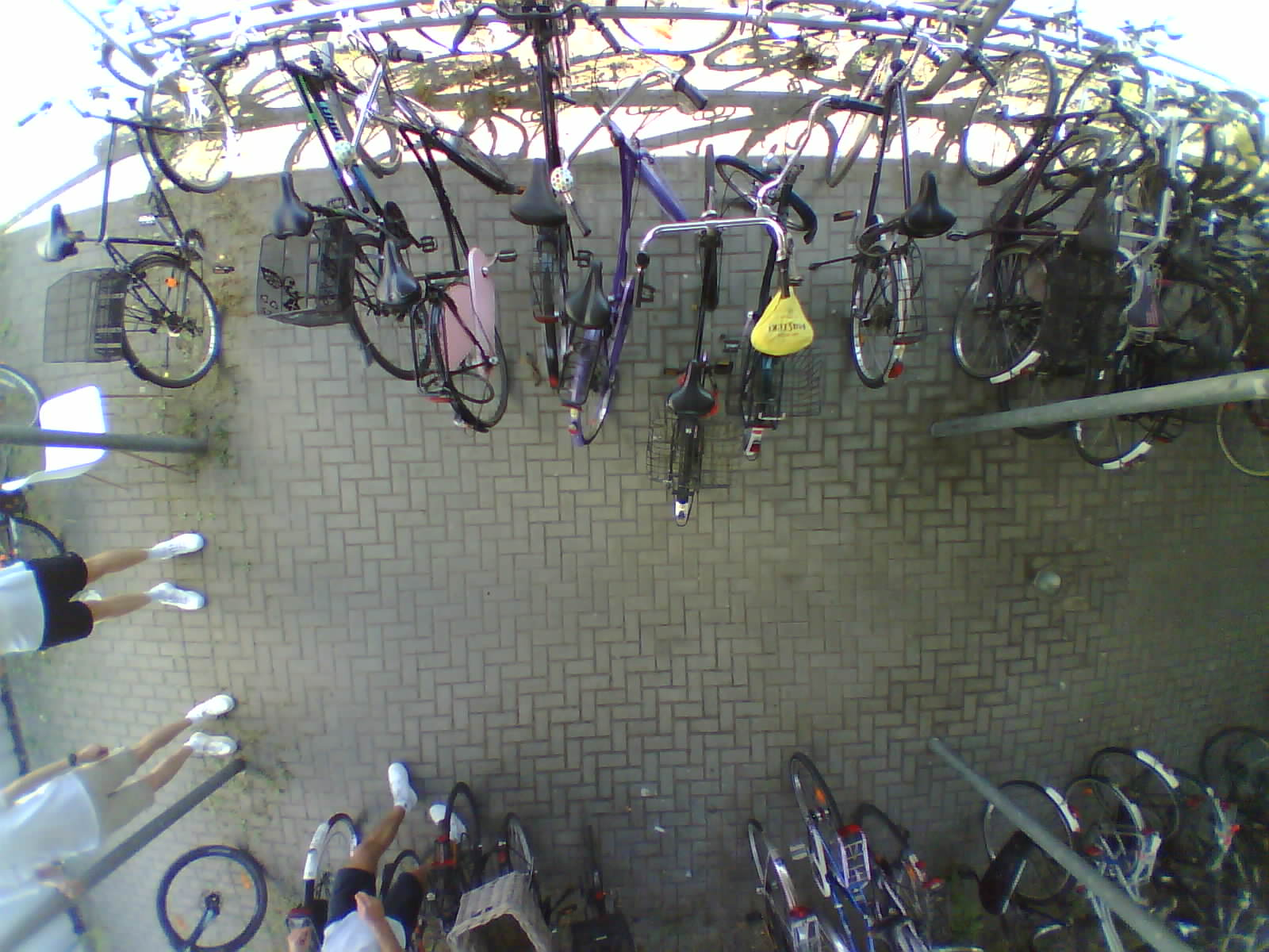bicylce: (250, 40, 427, 371), (374, 70, 523, 439), (105, 62, 233, 386), (955, 18, 1064, 386), (572, 122, 691, 443), (1005, 133, 1119, 440), (501, 10, 585, 384), (720, 128, 807, 473), (665, 123, 735, 536), (847, 26, 929, 376)
saddle: (749, 273, 819, 361), (511, 155, 583, 236), (895, 170, 965, 248), (657, 351, 723, 423), (559, 258, 622, 332), (265, 172, 325, 241), (36, 192, 85, 268), (1163, 211, 1213, 279), (374, 240, 423, 307), (1078, 202, 1124, 259), (1128, 269, 1163, 326)
